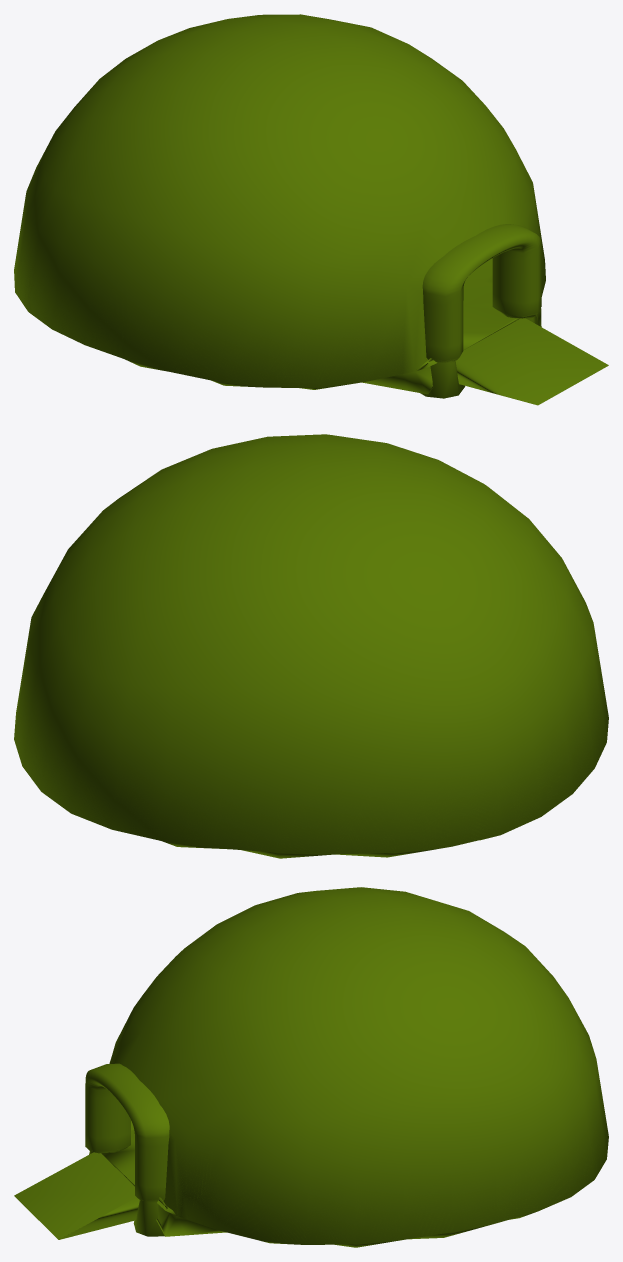
The model's file is Dome.fbx.
3 renders of one model, top to bottom at view 1: azimuth 30°, elevation 25°; view 2: azimuth 150°, elevation 25°; view 3: azimuth 270°, elevation 25°, orthographic. The views are drawn at different scales.
Visible parts, largest first — view 1: Dome; view 2: Dome; view 3: Dome.
Boxes of the visible parts, x1,y1,x2,y2 form: Dome: (14, 14, 608, 405); Dome: (14, 434, 608, 858); Dome: (14, 887, 608, 1247).
Bounding box in the file's own units: 19.03 × 10.47 × 22.33.
